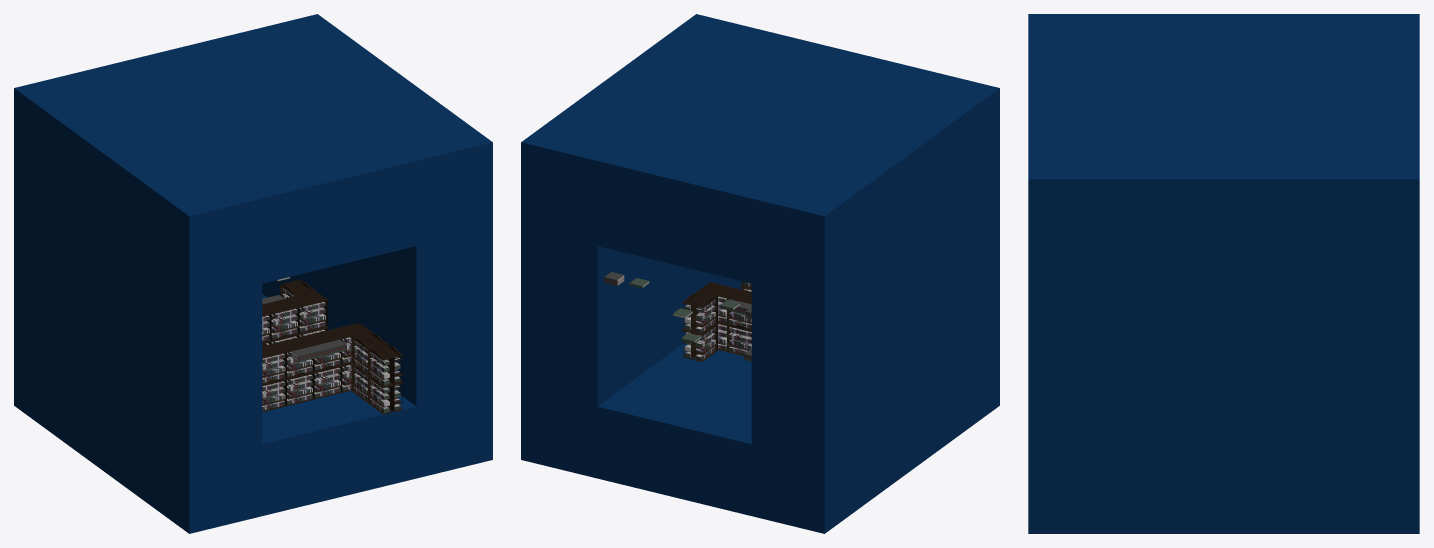
3 renders of one model, left to right at view 1: azimuth 30°, elevation 25°; view 2: azimuth 150°, elevation 25°; view 3: azimuth 270°, elevation 25°, orthographic. The views are drawn at different scales.
Visible parts, largest first — view 1: paredeTRUETRUE-col.004, livros.00-col.017, livros.00-col.021, livros.00-col.013, livros.00-col.006, livros.00-col.016, livros.00-col.018, livros.00-col.022, livros.00-col.005, livros.00-col.023, livros.00-col.009, livrosSTACK-col.004; view 2: paredeTRUETRUE-col.004, livros.00-col.014, livros.00-col.017, livros.00-col.010, livros.00-col.012; view 3: paredeTRUETRUE-col.004.
Boxes of the visible parts, x1=… form: paredeTRUETRUE-col.004: x1=14, y1=14, x2=492, y2=533; livros.00-col.017: x1=262, y1=291, x2=328, y2=340; livros.00-col.021: x1=304, y1=322, x2=370, y2=371; livros.00-col.013: x1=366, y1=343, x2=403, y2=386; livros.00-col.006: x1=314, y1=363, x2=351, y2=399; livros.00-col.016: x1=366, y1=376, x2=403, y2=414; livros.00-col.018: x1=262, y1=343, x2=287, y2=384; livros.00-col.022: x1=276, y1=336, x2=315, y2=378; livros.00-col.005: x1=287, y1=372, x2=315, y2=405; livros.00-col.023: x1=350, y1=331, x2=387, y2=374; livros.00-col.009: x1=262, y1=379, x2=287, y2=412; livrosSTACK-col.004: x1=291, y1=339, x2=346, y2=362; paredeTRUETRUE-col.004: x1=521, y1=14, x2=999, y2=533; livros.00-col.014: x1=682, y1=291, x2=718, y2=334; livros.00-col.017: x1=698, y1=282, x2=751, y2=330; livros.00-col.010: x1=718, y1=322, x2=751, y2=355; livros.00-col.012: x1=681, y1=323, x2=718, y2=361; paredeTRUETRUE-col.004: x1=1028, y1=14, x2=1419, y2=533.
Bounding box in the file's own units: 509 × 509 × 509.
385 materials, 384 textured.
